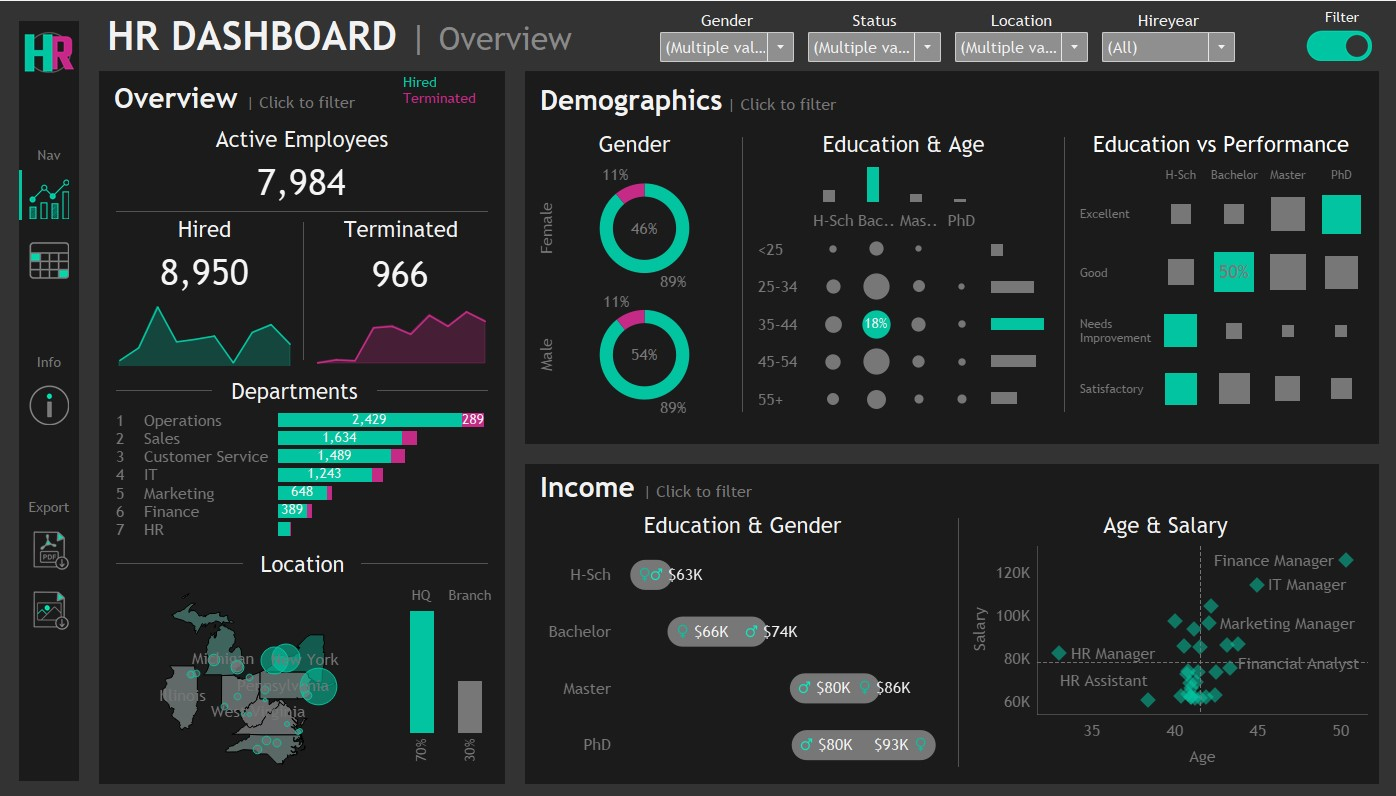

This screenshot's page, from the dashboard's own definition file:
{"tool":"tableau","page":{"name":"Overview","canvas":[1400,800],"ordinal":1},"visuals":[{"type":"blank","box":[84,0,1316,288]},{"type":"text","box":[100,0,1280,70]},{"type":"text","box":[1299,1,88,30]},{"type":"filter","title":"gen vs pay","param":"[federated.1vcci99087aw0216gbz2u09vh52b].[none:Gender:nk]","box":[654,6,148,61]},{"type":"filter","title":"gen vs pay","param":"[federated.1vcci99087aw0216gbz2u09vh52b].[none:Calculation_2254614626426142734:n","box":[802,6,147,61]},{"type":"filter","title":"gen vs pay","param":"[federated.1vcci99087aw0216gbz2u09vh52b].[none:Total Active (copy)_2254614626343","box":[949,6,147,61]},{"type":"filter","title":"gen vs pay","param":"[federated.1vcci99087aw0216gbz2u09vh52b].[yr:Hiredate:ok]","box":[1096,6,147,61]},{"type":"image","param":"Image/Logo.png","box":[20,20,60,62]},{"type":"dashboard-object","box":[1301,29,78,31]},{"type":"text","box":[400,71,100,38]},{"type":"text","box":[107,77,392,41]},{"type":"text","box":[533,77,840,44]},{"type":"blank","box":[20,82,60,60]},{"type":"text","box":[107,118,392,37]},{"type":"text","box":[533,126,205,34]},{"type":"blank","box":[743,126,1,295]},{"type":"text","box":[749,126,311,34]},{"type":"blank","box":[1065,126,1,295]},{"type":"text","box":[1071,126,302,34]},{"type":"text","box":[20,142,60,25]},{"type":"worksheet","title":"Active","mark":"Text","box":[107,155,392,55]},{"type":"worksheet","title":"Gender ratio","mark":"Pie","rows":["Gender"],"cols":["Calculation_2254614626377408523","Calculation_2254614626377408523"],"box":[533,160,205,261]},{"type":"worksheet","title":"Education","mark":"Bar","rows":["Calculation_2254614626337460224"],"cols":["Education Level"],"box":[749,160,311,45]},{"type":"worksheet","title":"Ed vs perf","mark":"Square","rows":["Performance Rating"],"cols":["Education Level"],"box":[1071,160,302,261]},{"type":"dashboard-object","box":[20,167,60,62]},{"type":"blank","box":[20,169,3,50]},{"type":"worksheet","title":"Age Vs Education","mark":"Circle","rows":["Calculation_2254614626380496909"],"cols":["Education Level"],"box":[749,205,239,216]},{"type":"worksheet","title":"Age","mark":"Bar","rows":["Calculation_2254614626380496909"],"cols":["Calculation_2254614626337460224"],"box":[988,205,64,216]},{"type":"blank","box":[107,210,392,1]},{"type":"text","box":[107,211,197,34]},{"type":"blank","box":[304,211,1,158]},{"type":"text","box":[305,211,194,34]},{"type":"dashboard-object","box":[20,229,60,60]},{"type":"worksheet","title":"Hired","mark":"Text","box":[107,245,197,53]},{"type":"worksheet","title":"Terminated","mark":"Text","box":[305,245,194,57.7]},{"type":"text","box":[84,288,1316,265]},{"type":"blank","box":[20,289,60,60]},{"type":"worksheet","title":"Hired by year","mark":"Line","rows":["Calculation_2254614626337460224","Calculation_2254614626337460224"],"cols":["Hiredate"],"box":[107,298,197,71]},{"type":"worksheet","title":"Terminated by year","mark":"Line","rows":["Calculation_2254614626337587201","Calculation_2254614626337587201"],"cols":["Termdate"],"box":[305,302.7,194,66.3]},{"type":"text","box":[20,349,60,25]},{"type":"dashboard-object","box":[20,374,60,60]},{"type":"blank","box":[117,374,96,32]},{"type":"text","box":[213,374,165,32]},{"type":"blank","box":[378,374,111,32]},{"type":"worksheet","title":"Hired by department","mark":"Bar","rows":["Calculation_2254614626345353225","Department"],"cols":["Calculation_2254614626337460224"],"box":[107,406,392,135]},{"type":"blank","box":[20,434,60,60]},{"type":"text","box":[533,470,840,32]},{"type":"text","box":[20,494,60,25]},{"type":"text","box":[533,507,421,34]},{"type":"blank","box":[959,507,1,269]},{"type":"text","box":[960,507,413,34]},{"type":"dashboard-object","box":[20,519,60,60]},{"type":"worksheet","title":"gen vs pay","mark":"Square","rows":["Education Level"],"cols":["Salary","Salary"],"box":[533,541,421,235]},{"type":"worksheet","title":"Sal vs Age","mark":"Shape","rows":["Salary"],"cols":["Calculation_2254614626379882508"],"box":[960,541,413,235]},{"type":"blank","box":[117,546,126.7,34]},{"type":"text","box":[243.7,546,118.7,34]},{"type":"blank","box":[362.3,546,126.7,34]},{"type":"blank","box":[84,553,1316,247]},{"type":"dashboard-object","box":[20,579,60,60]},{"type":"worksheet","title":"Map","mark":"Automatic","box":[107,580,287,196]},{"type":"worksheet","title":"Hired by location","mark":"Bar","rows":["Calculation_2254614626337460224"],"cols":["Total Active (copy)_2254614626343981059","Calculation1"],"box":[394,580,105,196]}]}

Visuals, with their boxes in screenshot pixels (x1, y1, x2, y2), scaled from the page's 1400x800 canvas onto the 1396x796 screenshot:
blank: <bbox>84, 0, 1395, 287</bbox>
text: <bbox>100, 0, 1376, 70</bbox>
text: <bbox>1295, 1, 1383, 31</bbox>
"gen vs pay" filter: <bbox>652, 6, 800, 67</bbox>
"gen vs pay" filter: <bbox>800, 6, 946, 67</bbox>
"gen vs pay" filter: <bbox>946, 6, 1093, 67</bbox>
"gen vs pay" filter: <bbox>1093, 6, 1239, 67</bbox>
image: <bbox>20, 20, 80, 82</bbox>
dashboard-object: <bbox>1297, 29, 1375, 60</bbox>
text: <bbox>399, 71, 499, 108</bbox>
text: <bbox>107, 77, 498, 117</bbox>
text: <bbox>531, 77, 1369, 120</bbox>
blank: <bbox>20, 82, 80, 141</bbox>
text: <bbox>107, 117, 498, 154</bbox>
text: <bbox>531, 125, 736, 159</bbox>
blank: <bbox>741, 125, 742, 419</bbox>
text: <bbox>747, 125, 1057, 159</bbox>
blank: <bbox>1062, 125, 1063, 419</bbox>
text: <bbox>1068, 125, 1369, 159</bbox>
text: <bbox>20, 141, 80, 166</bbox>
"Active" worksheet (Text marks): <bbox>107, 154, 498, 209</bbox>
"Gender ratio" worksheet (Pie marks): <bbox>531, 159, 736, 419</bbox>
"Education" worksheet (Bar marks): <bbox>747, 159, 1057, 204</bbox>
"Ed vs perf" worksheet (Square marks): <bbox>1068, 159, 1369, 419</bbox>
dashboard-object: <bbox>20, 166, 80, 228</bbox>
blank: <bbox>20, 168, 23, 218</bbox>
"Age Vs Education" worksheet (Circle marks): <bbox>747, 204, 985, 419</bbox>
"Age" worksheet (Bar marks): <bbox>985, 204, 1049, 419</bbox>
blank: <bbox>107, 209, 498, 210</bbox>
text: <bbox>107, 210, 303, 244</bbox>
blank: <bbox>303, 210, 304, 367</bbox>
text: <bbox>304, 210, 498, 244</bbox>
dashboard-object: <bbox>20, 228, 80, 288</bbox>
"Hired" worksheet (Text marks): <bbox>107, 244, 303, 297</bbox>
"Terminated" worksheet (Text marks): <bbox>304, 244, 498, 301</bbox>
text: <bbox>84, 287, 1395, 550</bbox>
blank: <bbox>20, 288, 80, 347</bbox>
"Hired by year" worksheet (Line marks): <bbox>107, 297, 303, 367</bbox>
"Terminated by year" worksheet (Line marks): <bbox>304, 301, 498, 367</bbox>
text: <bbox>20, 347, 80, 372</bbox>
dashboard-object: <bbox>20, 372, 80, 432</bbox>
blank: <bbox>117, 372, 212, 404</bbox>
text: <bbox>212, 372, 377, 404</bbox>
blank: <bbox>377, 372, 488, 404</bbox>
"Hired by department" worksheet (Bar marks): <bbox>107, 404, 498, 538</bbox>
blank: <bbox>20, 432, 80, 492</bbox>
text: <bbox>531, 468, 1369, 499</bbox>
text: <bbox>20, 492, 80, 516</bbox>
text: <bbox>531, 504, 951, 538</bbox>
blank: <bbox>956, 504, 957, 772</bbox>
text: <bbox>957, 504, 1369, 538</bbox>
dashboard-object: <bbox>20, 516, 80, 576</bbox>
"gen vs pay" worksheet (Square marks): <bbox>531, 538, 951, 772</bbox>
"Sal vs Age" worksheet (Shape marks): <bbox>957, 538, 1369, 772</bbox>
blank: <bbox>117, 543, 243, 577</bbox>
text: <bbox>243, 543, 361, 577</bbox>
blank: <bbox>361, 543, 488, 577</bbox>
blank: <bbox>84, 550, 1395, 795</bbox>
dashboard-object: <bbox>20, 576, 80, 636</bbox>
"Map" worksheet: <bbox>107, 577, 393, 772</bbox>
"Hired by location" worksheet (Bar marks): <bbox>393, 577, 498, 772</bbox>
